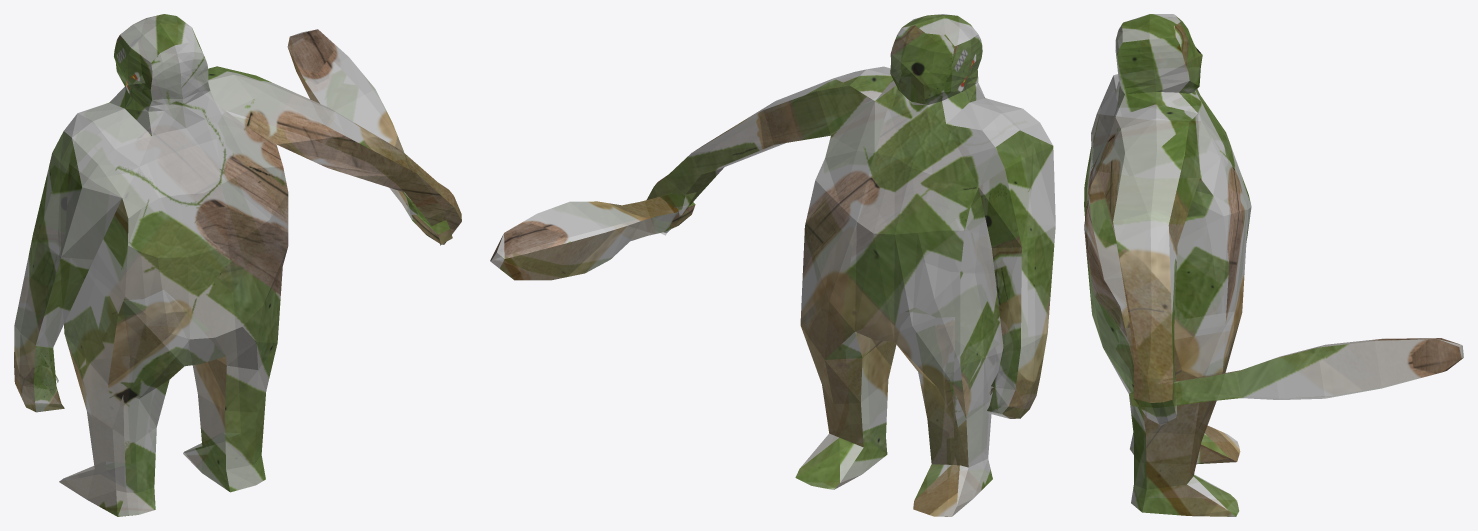
Rendered from Enemigo222.obj.
The picture shows the model from 3 angles, left to right: view 1: azimuth 30°, elevation 25°; view 2: azimuth 150°, elevation 25°; view 3: azimuth 270°, elevation 25°; orthographic projection. The views are drawn at different scales.
Parts seen in each view (by area): view 1: Cube; view 2: Cube; view 3: Cube.
Part boxes in pixels (x1,y1,x2,y2): Cube: (14, 14, 461, 516); Cube: (490, 14, 1055, 516); Cube: (1084, 14, 1463, 516).
Size of the model in its own units: 2.59 by 2.7 by 2.04.
1 material, 1 textured.
